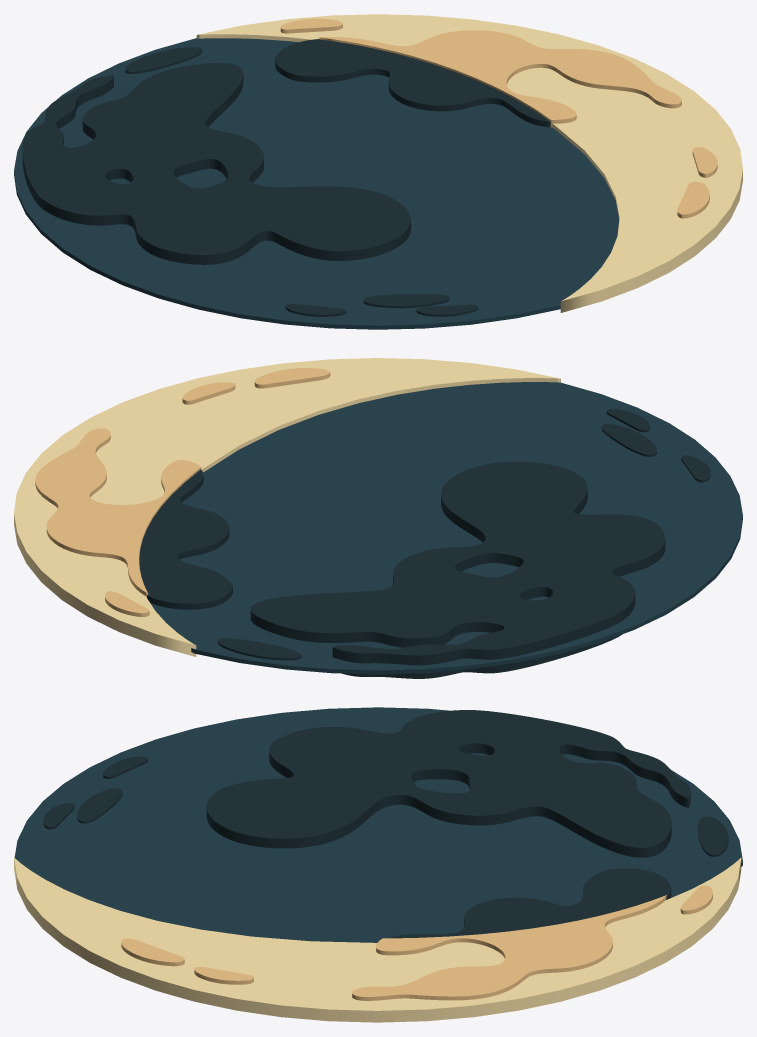
The model's file is emoji_u1f312.glb.
The picture shows the model from 3 angles, top to bottom: view 1: azimuth 30°, elevation 25°; view 2: azimuth 150°, elevation 25°; view 3: azimuth 270°, elevation 25°; orthographic projection.
Parts seen in each view (by area): view 1: emoji_u1f312; view 2: emoji_u1f312; view 3: emoji_u1f312.
Boxes of the visible parts, box(x1,y1,x2,y2) form: emoji_u1f312: box(14, 14, 742, 329); emoji_u1f312: box(14, 358, 742, 678); emoji_u1f312: box(14, 707, 742, 1022).
Bounding box in the file's own units: 0.0338 × 0.0012 × 0.0339.
